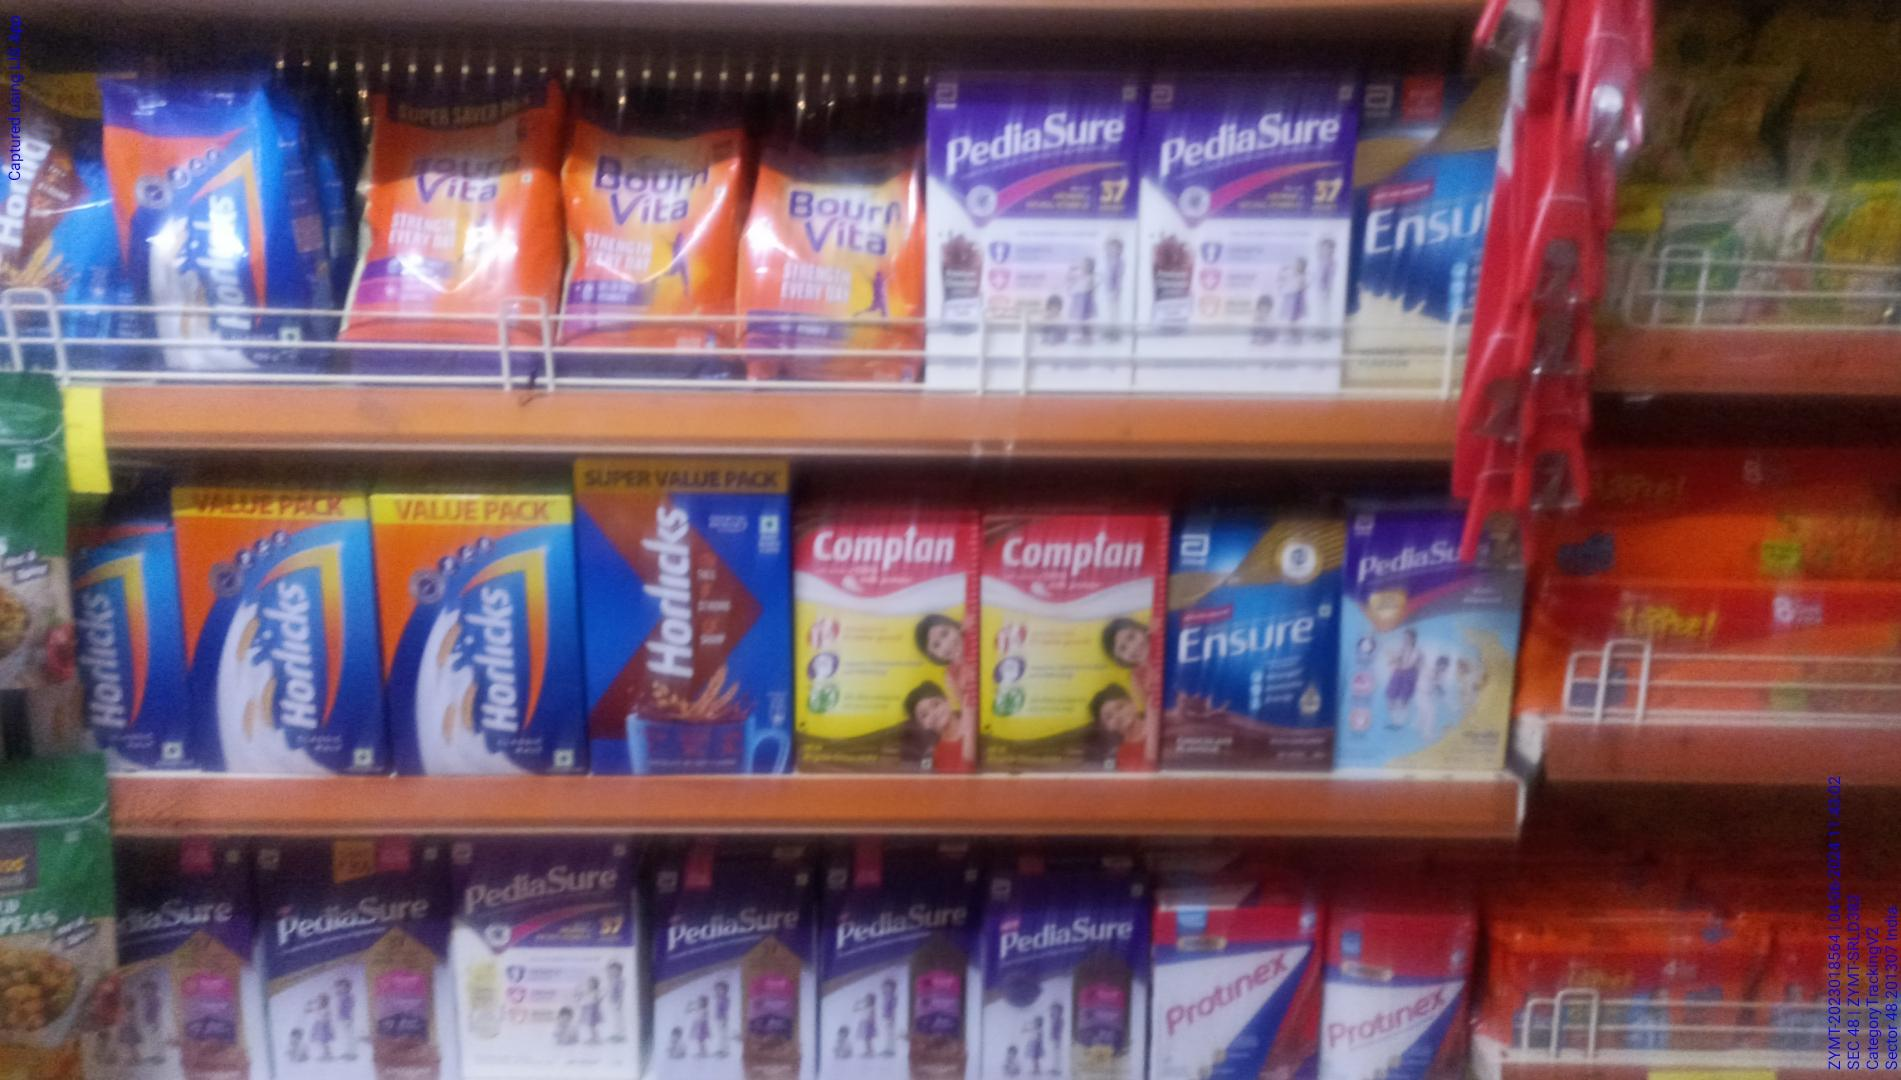PEDIASURE_CHOCOLATE_500_G_PACK: (266, 871, 444, 1080), (640, 867, 812, 1080), (91, 865, 255, 1080), (817, 892, 970, 1080)
PEDIASURE_VANILLA_500_G_PACK: (982, 891, 1140, 1080)
PROTINEX_CHOCOLATE_400_G_JAR: (1321, 906, 1473, 1080)
